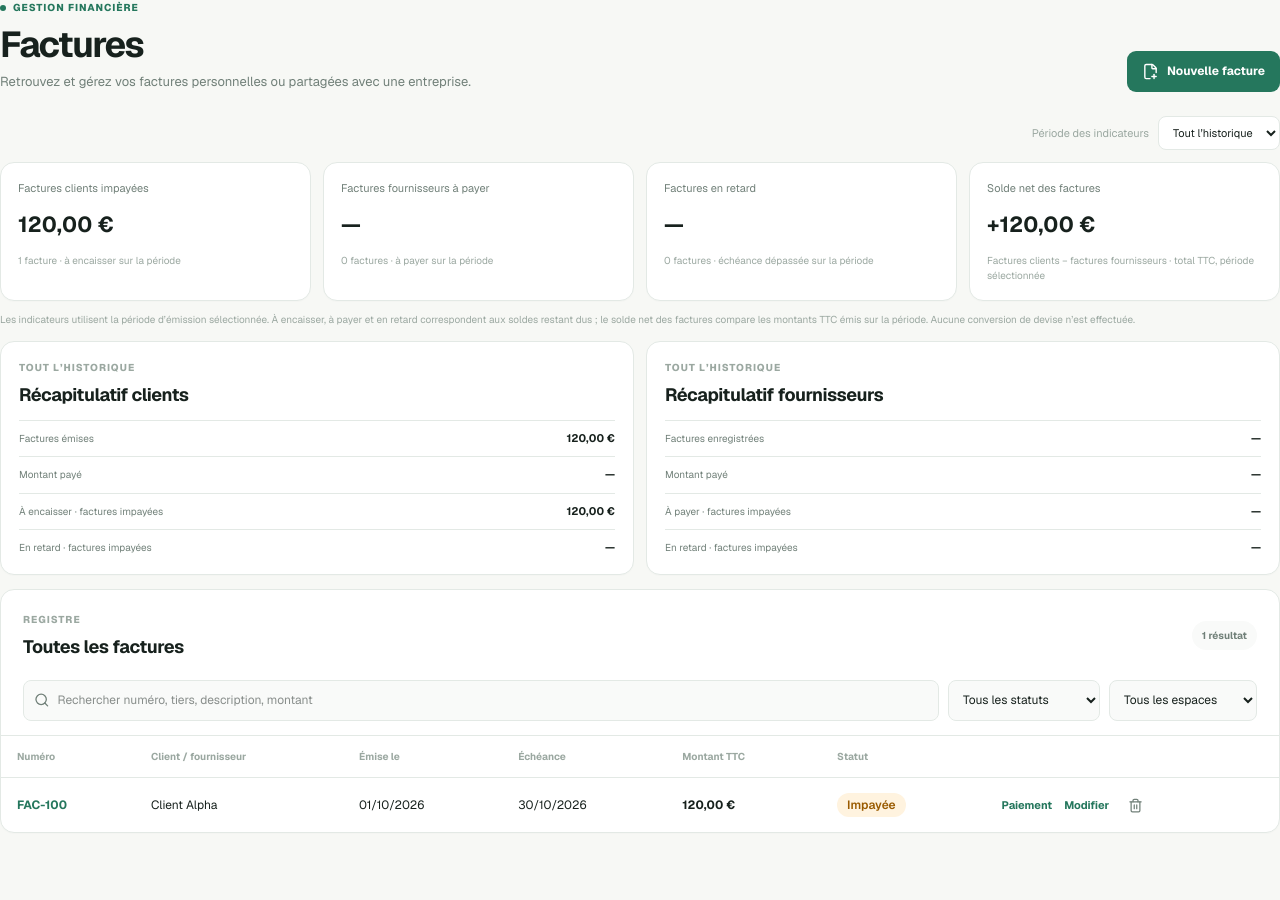
Test: invoice manager › filters on every character without case sensitivity, normalizes spaces, and restores on clear
This screenshot has width=1280, height=900.
Type " f" into the search field named "Rechercher une facture". click: x=493, y=700
box: [58,681,928,720]
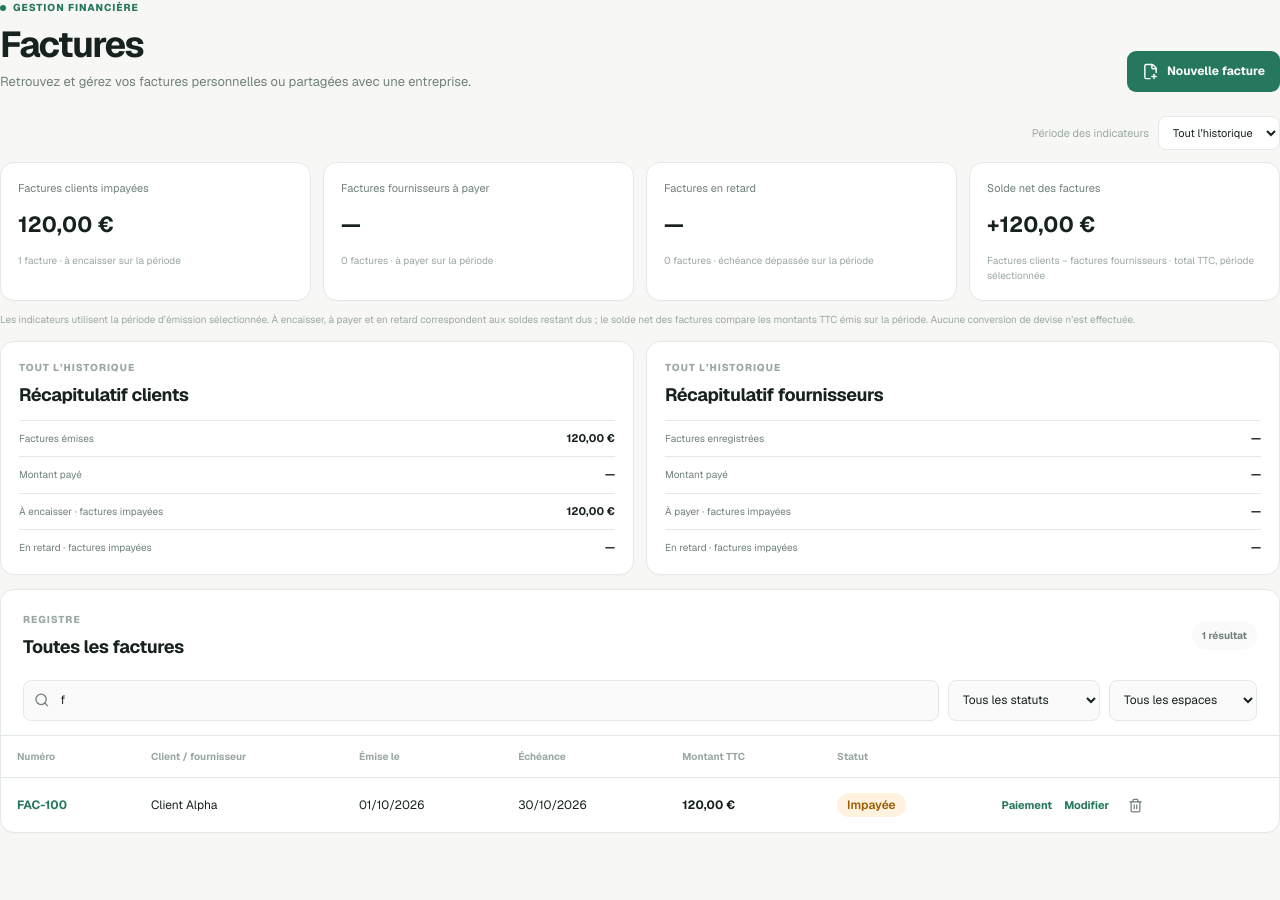
Expected: the button "FAC-100" is shown, [17,796,67,814]
Replace the text in the search field named "Rechercher une facture" with "  CLIENT   AL". click: x=493, y=700
box: [58,681,928,720]
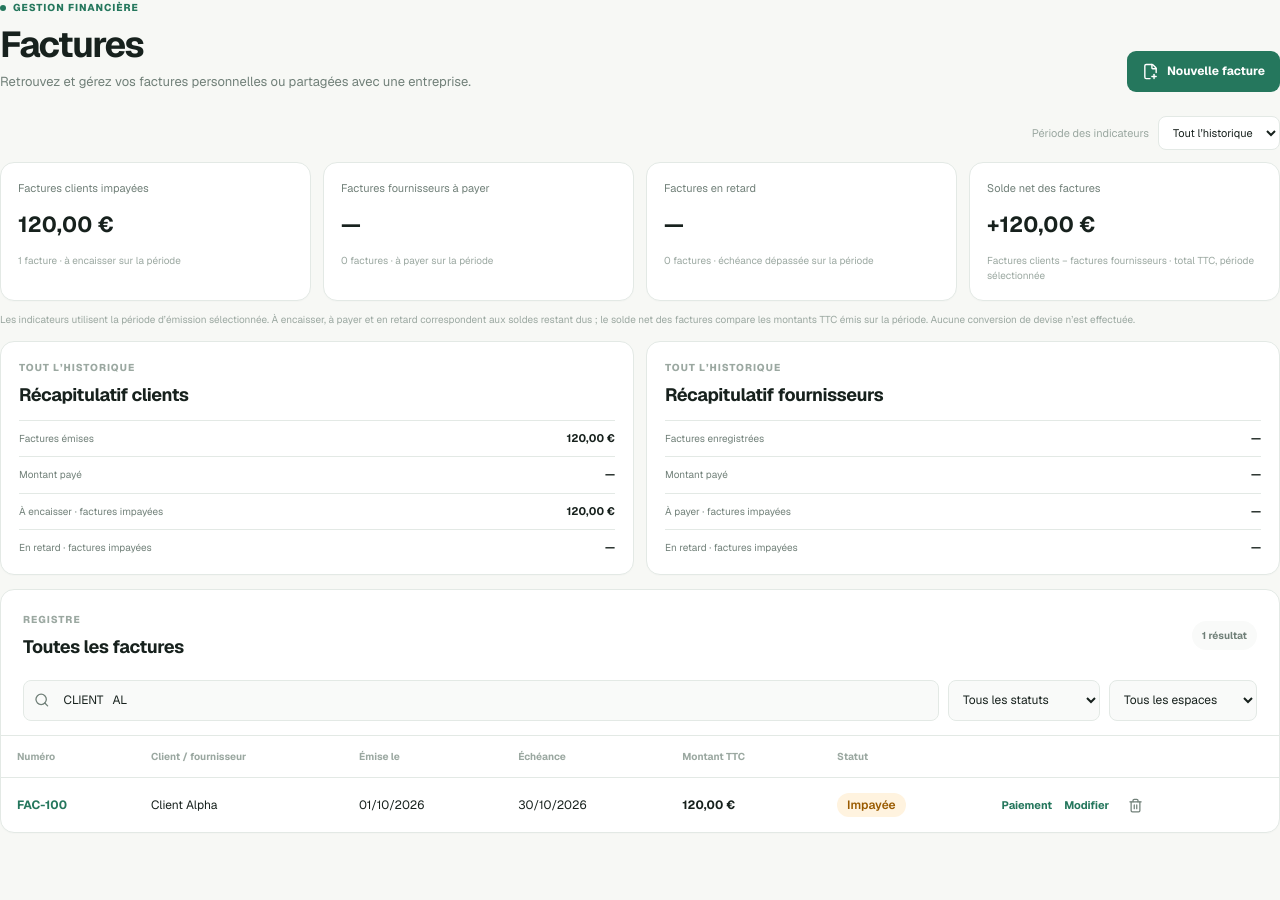
Expected: the button "FAC-100" is shown, [17,796,67,814]
Replace the text in the search field named "Rechercher une facture" with "  xyz ". click: x=493, y=700
box: [58,681,928,720]
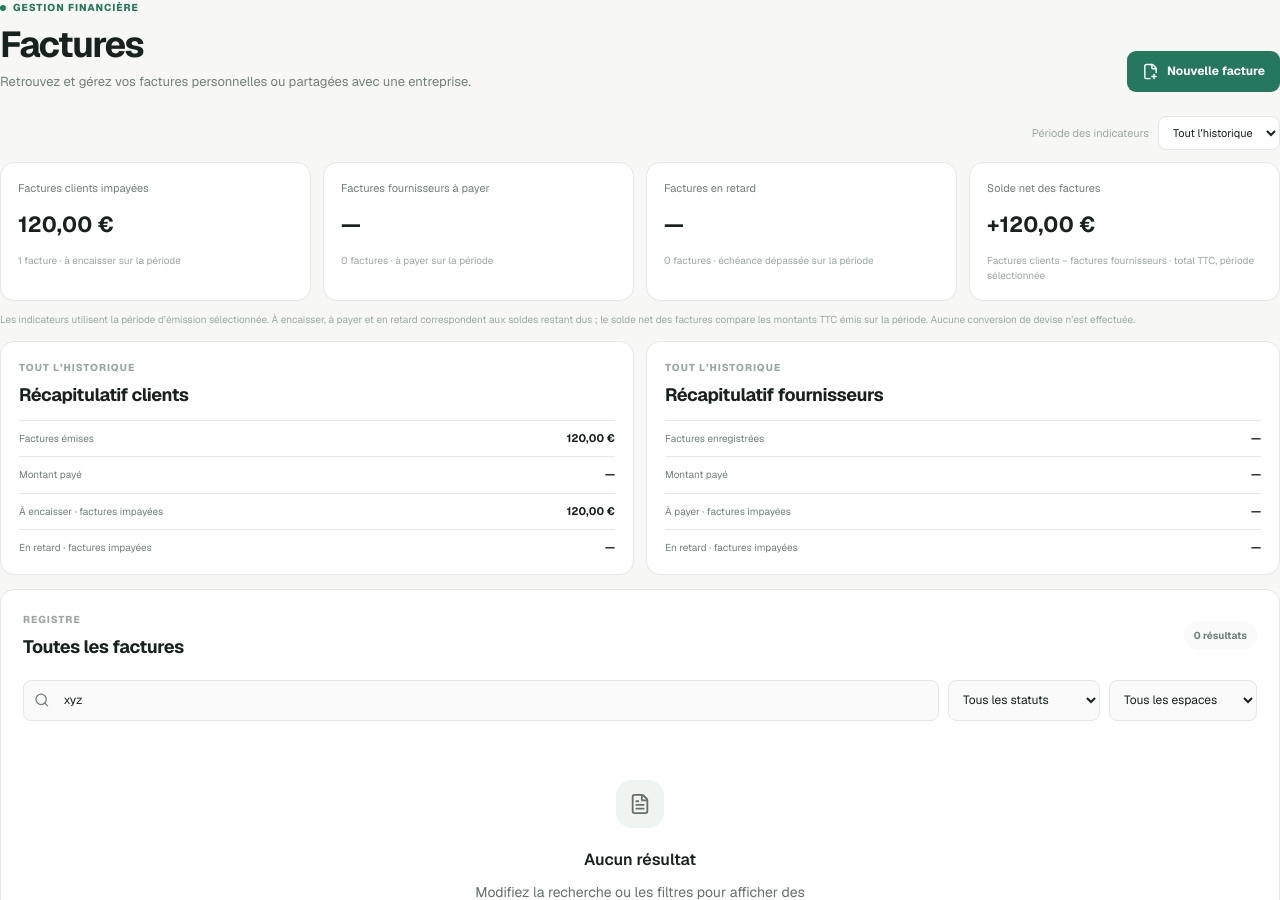
Expected: the heading "Aucun résultat" is shown, [584,848,696,872]
Clear the search field named "Rechercher une facture". click: x=493, y=700
box: [58,681,928,720]
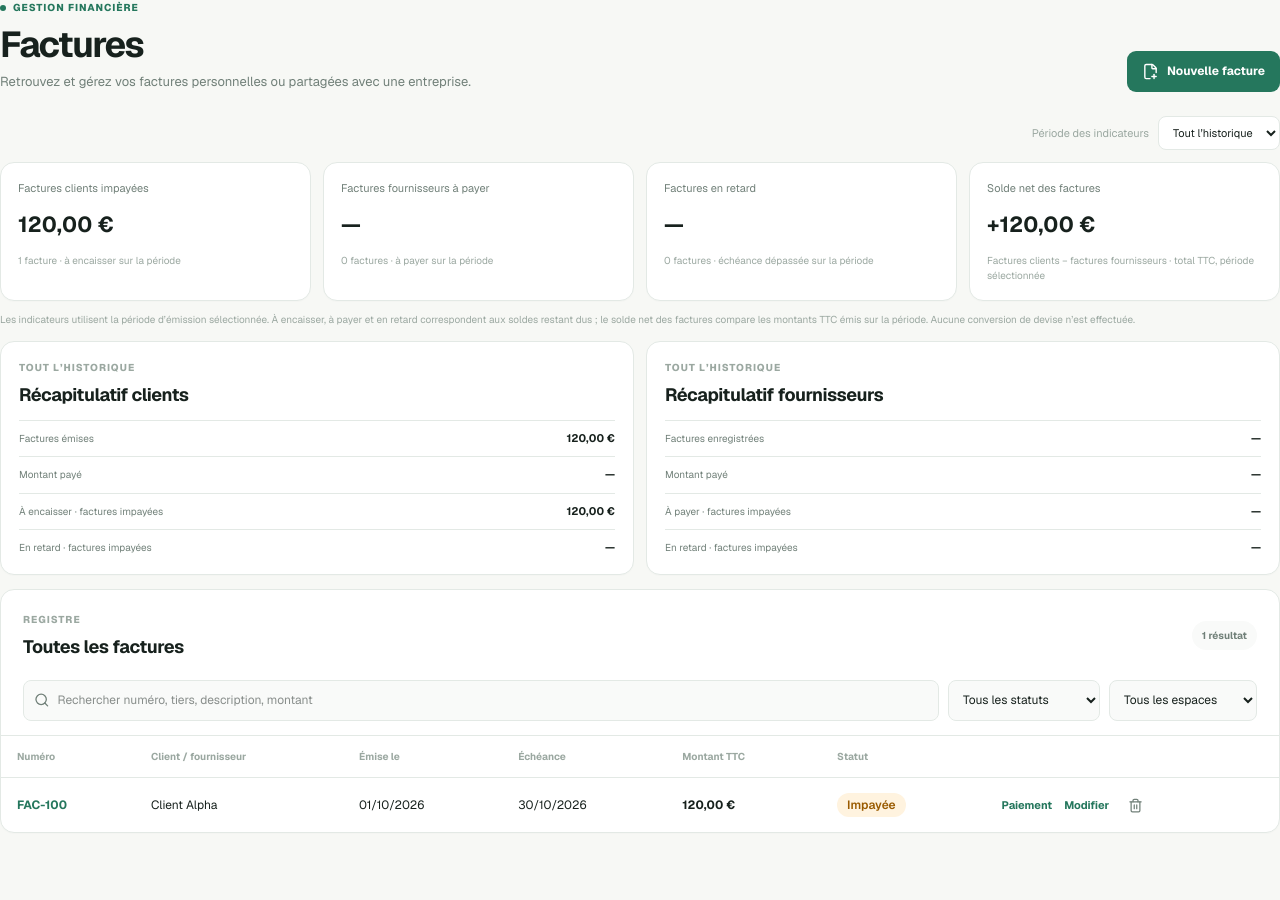
Expected: the button "FAC-100" is shown, [17,796,67,814]
